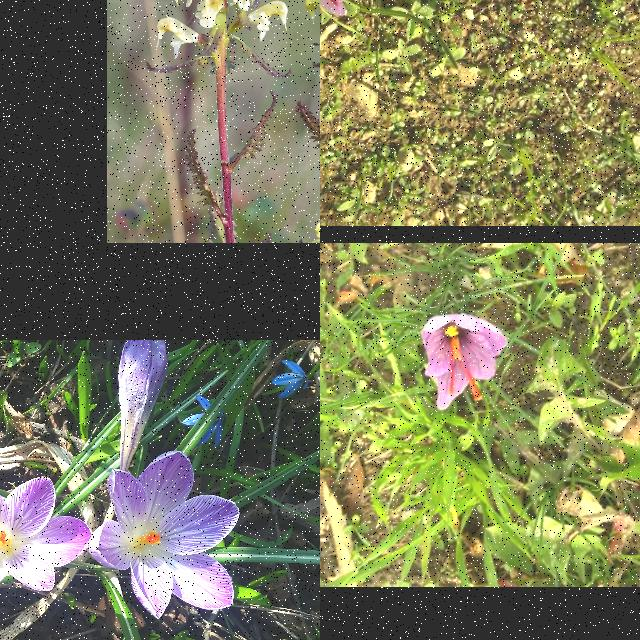flower: (421, 313, 509, 411)
